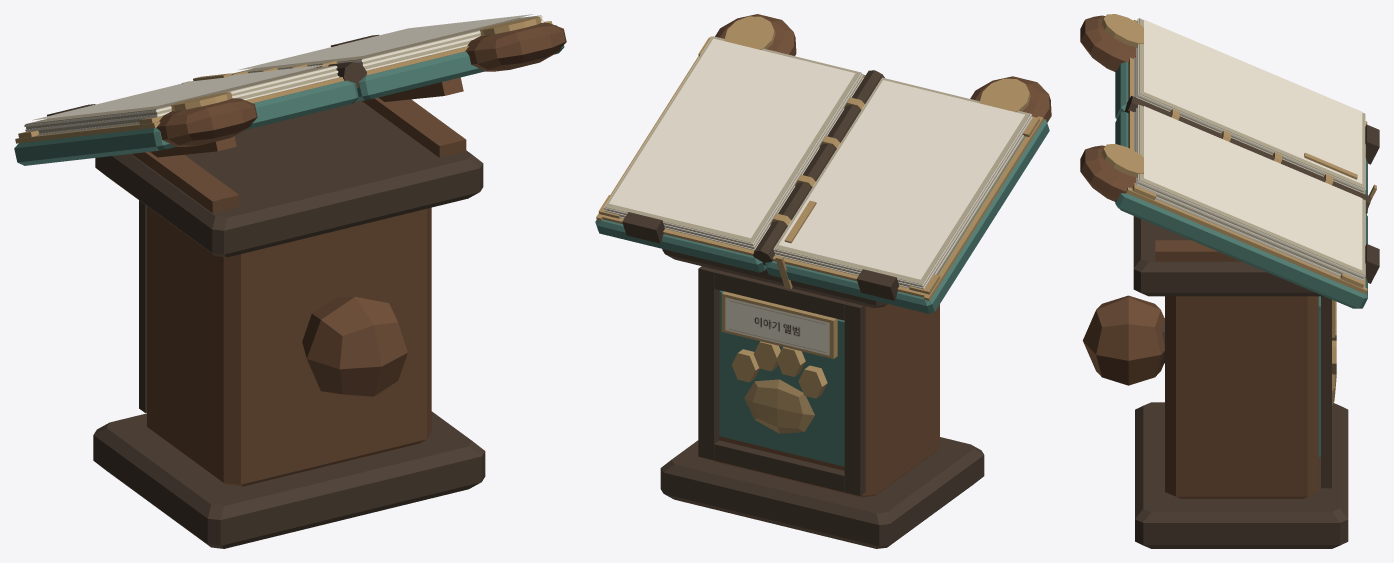
File: Bear_Memory_Album.fbx
3 views of the same model, side by side, from view 1: azimuth 30°, elevation 25°; view 2: azimuth 150°, elevation 25°; view 3: azimuth 270°, elevation 25° (orthographic). The views are drawn at different scales.
Visible parts, largest first — view 1: Stand_Body, Stand_Cap, Stand_Base, Album_Cover, Bear_Tail, Bear_Ears, Book_Cradle, Page_Blocks, Page_Left, Page_Right, Cover_Trim, Binding; view 2: Stand_Body, Page_Left, Page_Right, Stand_Base, Page_Blocks, Album_Cover, Paw_Emblem, Front_Title, Bear_Ears, Cover_Trim, Binding, Book_Stop (+2 smaller); view 3: Stand_Body, Page_Left, Page_Right, Stand_Base, Page_Blocks, Stand_Cap, Album_Cover, Bear_Tail, Bear_Ears, Cover_Trim, Binding, Book_Cradle (+3 smaller).
Boxes of the visible parts, x1=… form: Stand_Body: x1=139, y1=200, x2=431, y2=486; Stand_Cap: x1=95, y1=101, x2=483, y2=257; Stand_Base: x1=93, y1=411, x2=485, y2=548; Album_Cover: x1=14, y1=45, x2=564, y2=165; Bear_Tail: x1=302, y1=296, x2=407, y2=397; Bear_Ears: x1=156, y1=16, x2=566, y2=146; Book_Cradle: x1=132, y1=77, x2=466, y2=213; Page_Blocks: x1=24, y1=15, x2=543, y2=135; Page_Left: x1=237, y1=14, x2=532, y2=70; Page_Right: x1=32, y1=64, x2=327, y2=120; Cover_Trim: x1=15, y1=21, x2=556, y2=143; Binding: x1=231, y1=61, x2=366, y2=88; Stand_Body: x1=698, y1=266, x2=939, y2=497; Page_Left: x1=609, y1=38, x2=855, y2=238; Page_Right: x1=779, y1=80, x2=1024, y2=279; Stand_Base: x1=660, y1=437, x2=984, y2=548; Page_Blocks: x1=603, y1=36, x2=1032, y2=289; Album_Cover: x1=595, y1=74, x2=1049, y2=313; Paw_Emblem: x1=732, y1=341, x2=827, y2=433; Front_Title: x1=721, y1=291, x2=837, y2=358; Bear_Ears: x1=715, y1=14, x2=1051, y2=122; Cover_Trim: x1=596, y1=36, x2=1043, y2=300; Binding: x1=753, y1=70, x2=884, y2=265; Book_Stop: x1=622, y1=212, x2=899, y2=300; Stand_Body: x1=1165, y1=296, x2=1331, y2=498; Page_Left: x1=1144, y1=106, x2=1362, y2=270; Page_Right: x1=1144, y1=19, x2=1362, y2=183; Stand_Base: x1=1135, y1=402, x2=1348, y2=548; Page_Blocks: x1=1134, y1=18, x2=1365, y2=281; Stand_Cap: x1=1133, y1=216, x2=1323, y2=296; Album_Cover: x1=1115, y1=62, x2=1367, y2=308; Bear_Tail: x1=1082, y1=295, x2=1164, y2=385; Bear_Ears: x1=1080, y1=14, x2=1143, y2=201; Cover_Trim: x1=1126, y1=20, x2=1367, y2=293; Binding: x1=1124, y1=96, x2=1371, y2=212; Book_Cradle: x1=1155, y1=240, x2=1241, y2=261.
Size of the model in its own units: 1.29 by 1.44 by 0.955.
9 materials, 3 textured.
